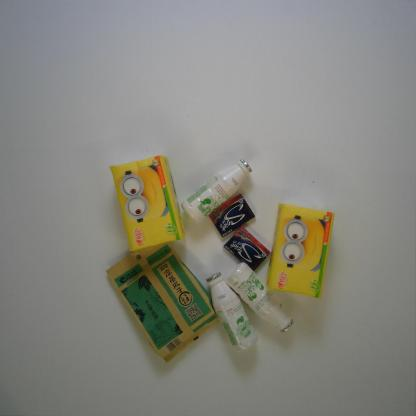Dried Food: (106, 240, 219, 364)
Gum: (223, 225, 272, 272), (208, 192, 256, 239)
Milk: (225, 261, 294, 333), (181, 158, 253, 226), (206, 272, 258, 352)
Tissue: (108, 155, 186, 253), (265, 202, 335, 300)
